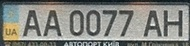character: (163, 9, 183, 38), (23, 9, 42, 36), (43, 9, 61, 37), (143, 9, 161, 36), (118, 9, 134, 36), (102, 9, 117, 37), (85, 9, 100, 36), (69, 9, 83, 36)
